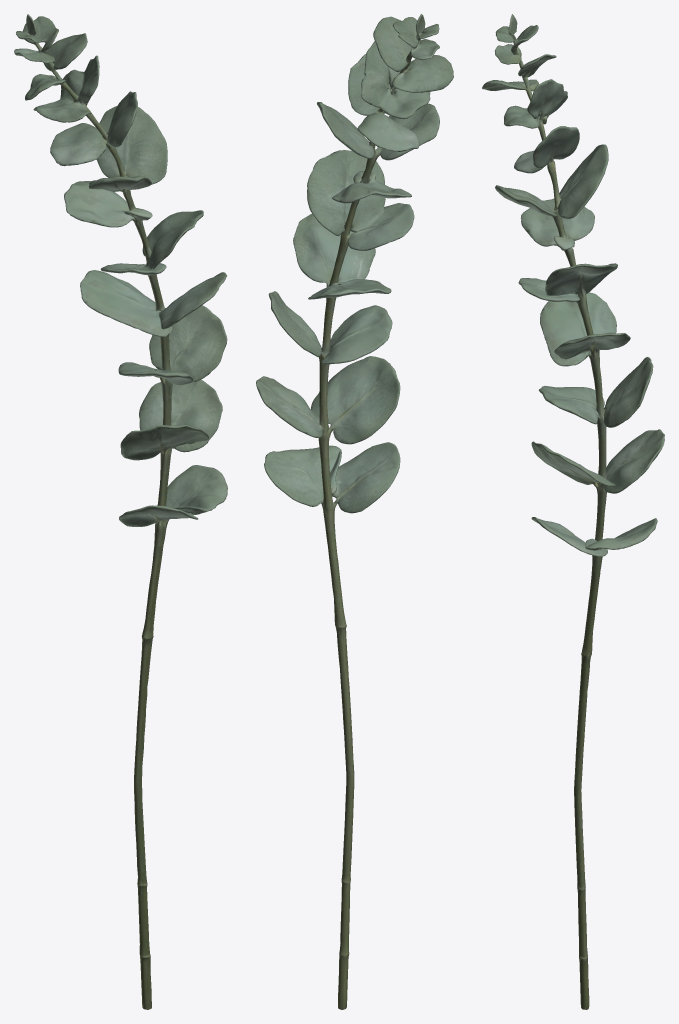
File: eucalyptus_silver.glb
3 renders of one model, left to right at view 1: azimuth 30°, elevation 25°; view 2: azimuth 150°, elevation 25°; view 3: azimuth 330°, elevation 25°, orthographic. The views are drawn at different scales.
Bounding box in the file's own units: 0.3699 × 1.91 × 0.2439.
1 material, 1 textured.
